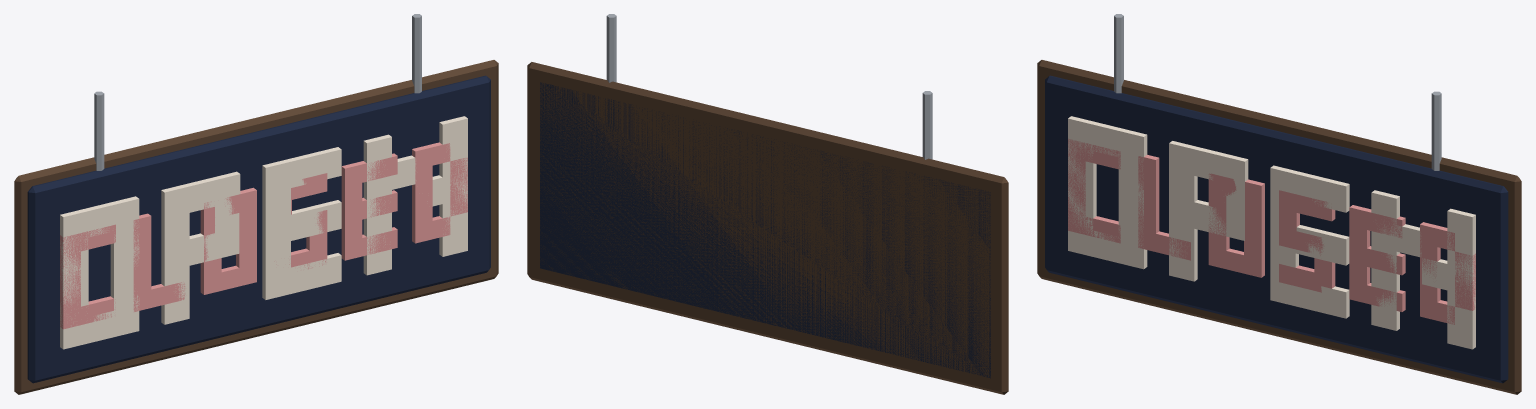
Rendered from CatCafe_Decor_DoorSign.glb.
3 renders of one model, left to right at view 1: azimuth 30°, elevation 25°; view 2: azimuth 150°, elevation 25°; view 3: azimuth 330°, elevation 25°, orthographic.
Parts seen in each view (by area): view 1: CatCafe_Decor_DoorSign_Closed, CatCafe_Decor_DoorSign_Open; view 2: CatCafe_Decor_DoorSign_Closed; view 3: CatCafe_Decor_DoorSign_Closed, CatCafe_Decor_DoorSign_Open.
Part boxes in pixels (x1,y1,x2,y2): CatCafe_Decor_DoorSign_Closed: (14,14,498,394); CatCafe_Decor_DoorSign_Open: (26,60,497,349); CatCafe_Decor_DoorSign_Closed: (527,14,1008,394); CatCafe_Decor_DoorSign_Closed: (1037,14,1521,394); CatCafe_Decor_DoorSign_Open: (1038,60,1475,349).
Bounding box in the file's own units: 3.35 × 1.88 × 0.14.
1 material, 1 textured.
